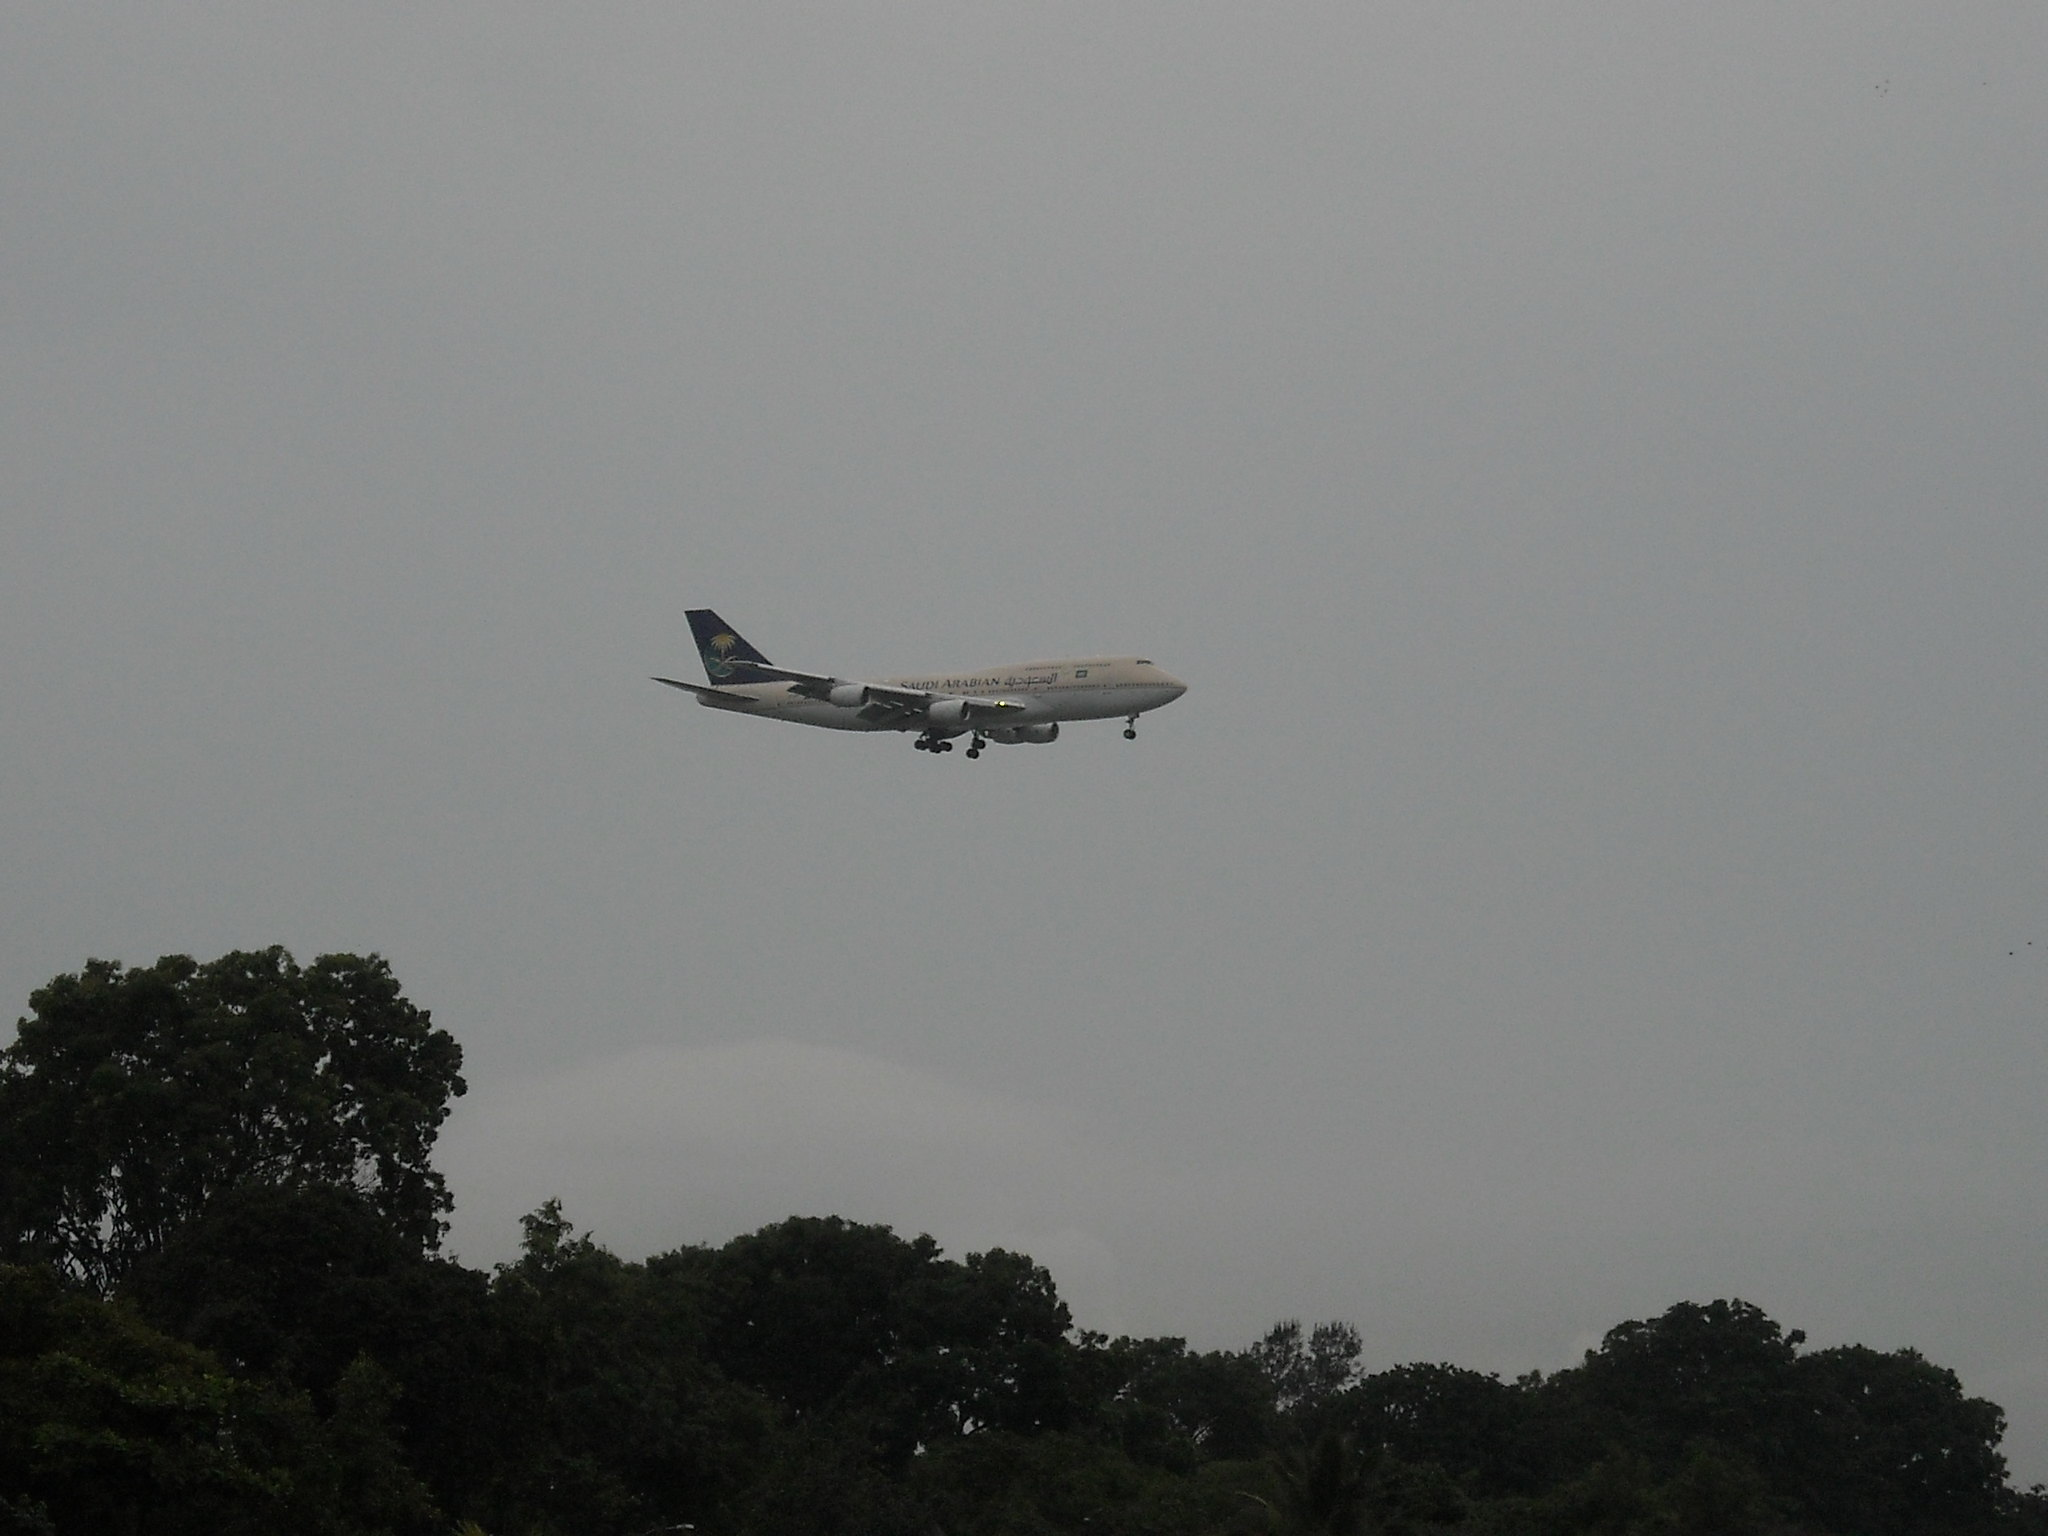aeroplane: (651, 599, 1201, 762)
